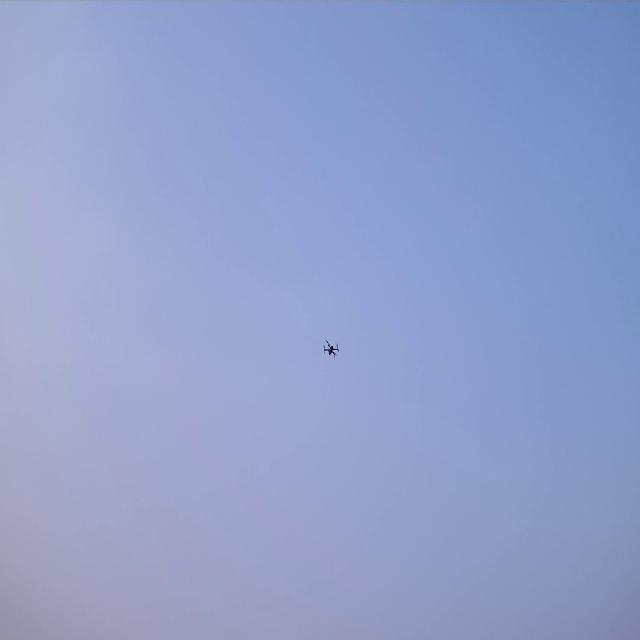UAV: (323, 339, 340, 360)
